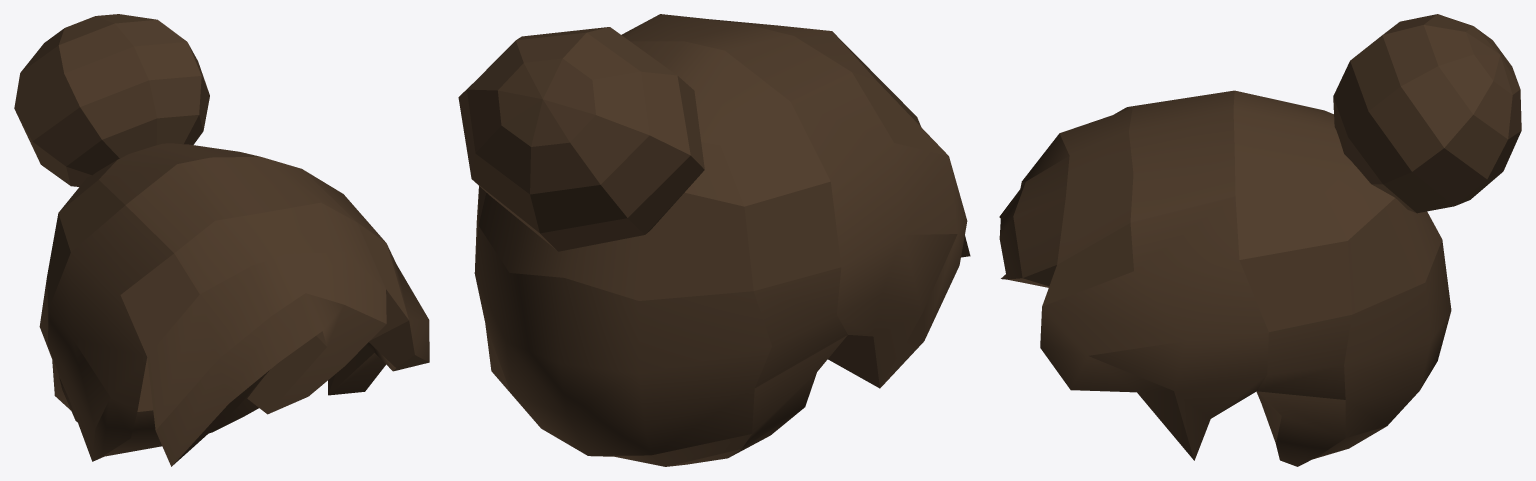
File: Cabello_Chongo.fbx
The picture shows the model from 3 angles, left to right: view 1: azimuth 30°, elevation 25°; view 2: azimuth 150°, elevation 25°; view 3: azimuth 270°, elevation 25°; orthographic projection. The views are drawn at different scales.
Visible parts, largest first — view 1: Cabello_Coleta, pSphere1; view 2: Cabello_Coleta, pSphere1; view 3: Cabello_Coleta, pSphere1.
Part boxes in pixels (left/top/right/bottom): Cabello_Coleta: left=39, top=143, right=429, bottom=466; pSphere1: left=14, top=14, right=209, bottom=186; Cabello_Coleta: left=474, top=14, right=970, bottom=466; pSphere1: left=458, top=27, right=704, bottom=251; Cabello_Coleta: left=999, top=90, right=1451, bottom=466; pSphere1: left=1333, top=14, right=1521, bottom=213.
Bounding box in the file's own units: 3.24 × 3.64 × 4.14.
